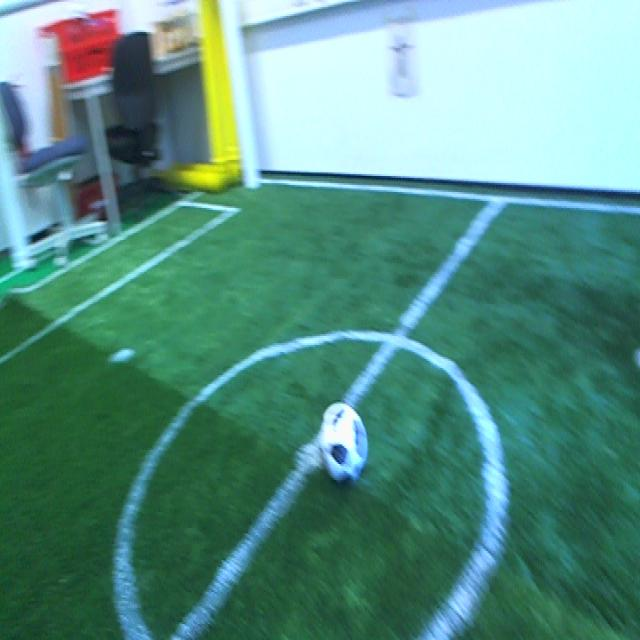ball: (311, 404, 370, 484)
goalpost: (220, 3, 263, 194)
